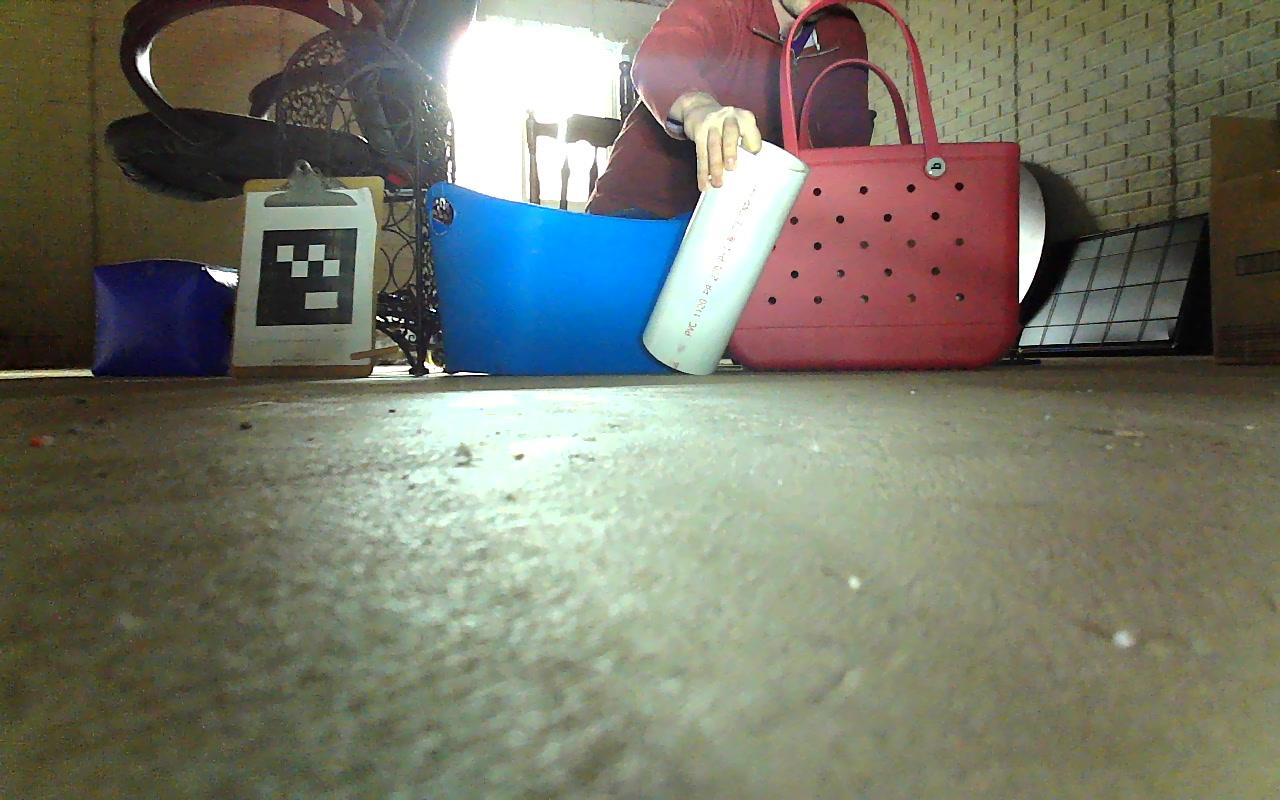coral: (640, 135, 813, 375)
